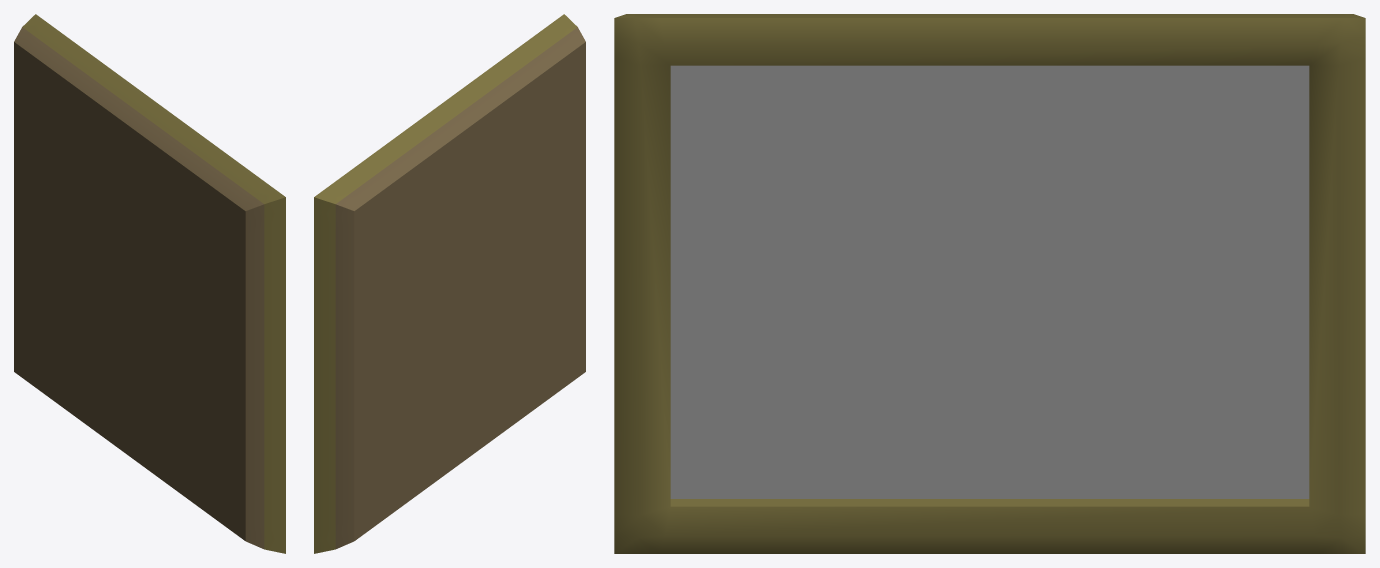
Rendered from Picture_Frame.fbx.
The picture shows the model from 3 angles, left to right: view 1: azimuth 30°, elevation 25°; view 2: azimuth 150°, elevation 25°; view 3: azimuth 270°, elevation 25°; orthographic projection. The views are drawn at different scales.
Visible parts, largest first — view 1: Picture_Frame; view 2: Picture_Frame; view 3: Painting, Picture_Frame.
Boxes of the visible parts, <box> form: Picture_Frame: <box>14,14,285,553</box>; Picture_Frame: <box>314,14,585,553</box>; Painting: <box>670,65,1309,498</box>; Picture_Frame: <box>614,14,1365,553</box>.
Bounding box in the file's own units: 8.79 × 81.3 × 103.
